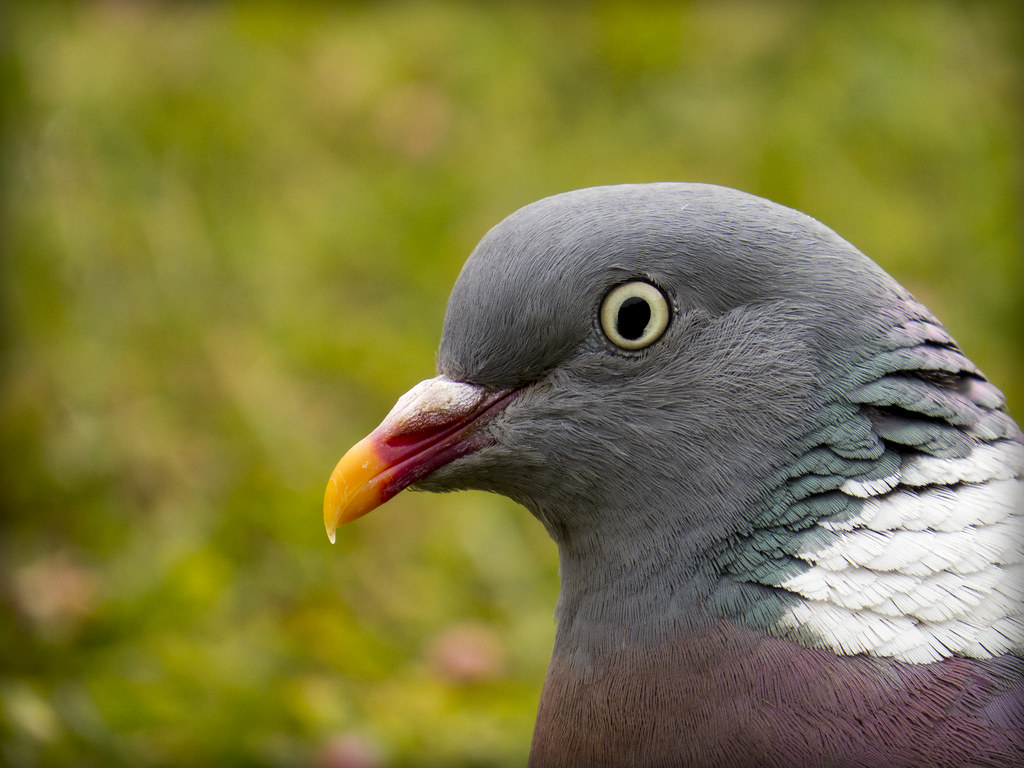pigeon: (309, 174, 1024, 768)
